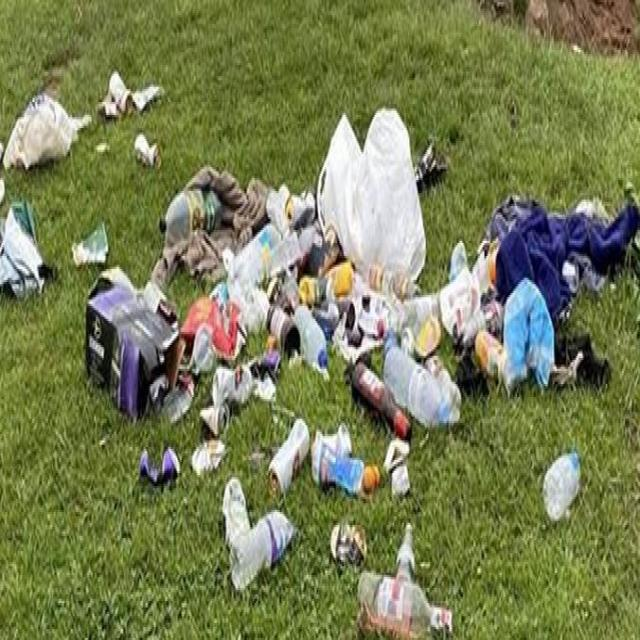metal: (265, 413, 314, 504), (137, 439, 182, 505), (108, 68, 136, 121)
paper: (82, 280, 189, 429), (0, 197, 60, 313), (543, 436, 589, 568), (70, 220, 111, 274)
plastic: (314, 94, 430, 300), (2, 87, 95, 181), (224, 508, 300, 600), (155, 183, 226, 255)
